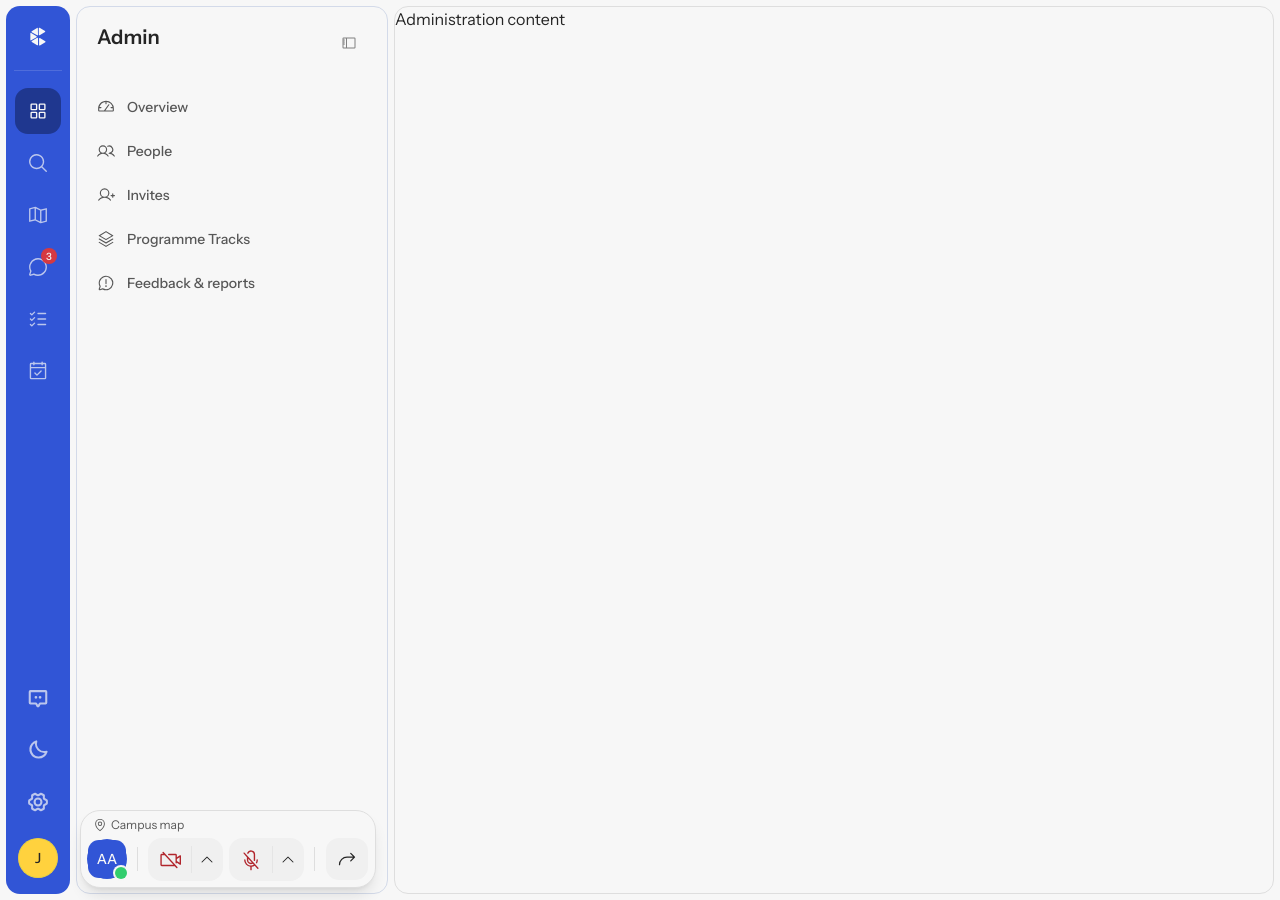
Test: administration Campus layout › Tasks restores Campus sidebar mode
Click the button named "Tasks" at (38, 319), box [14,295,62,343]
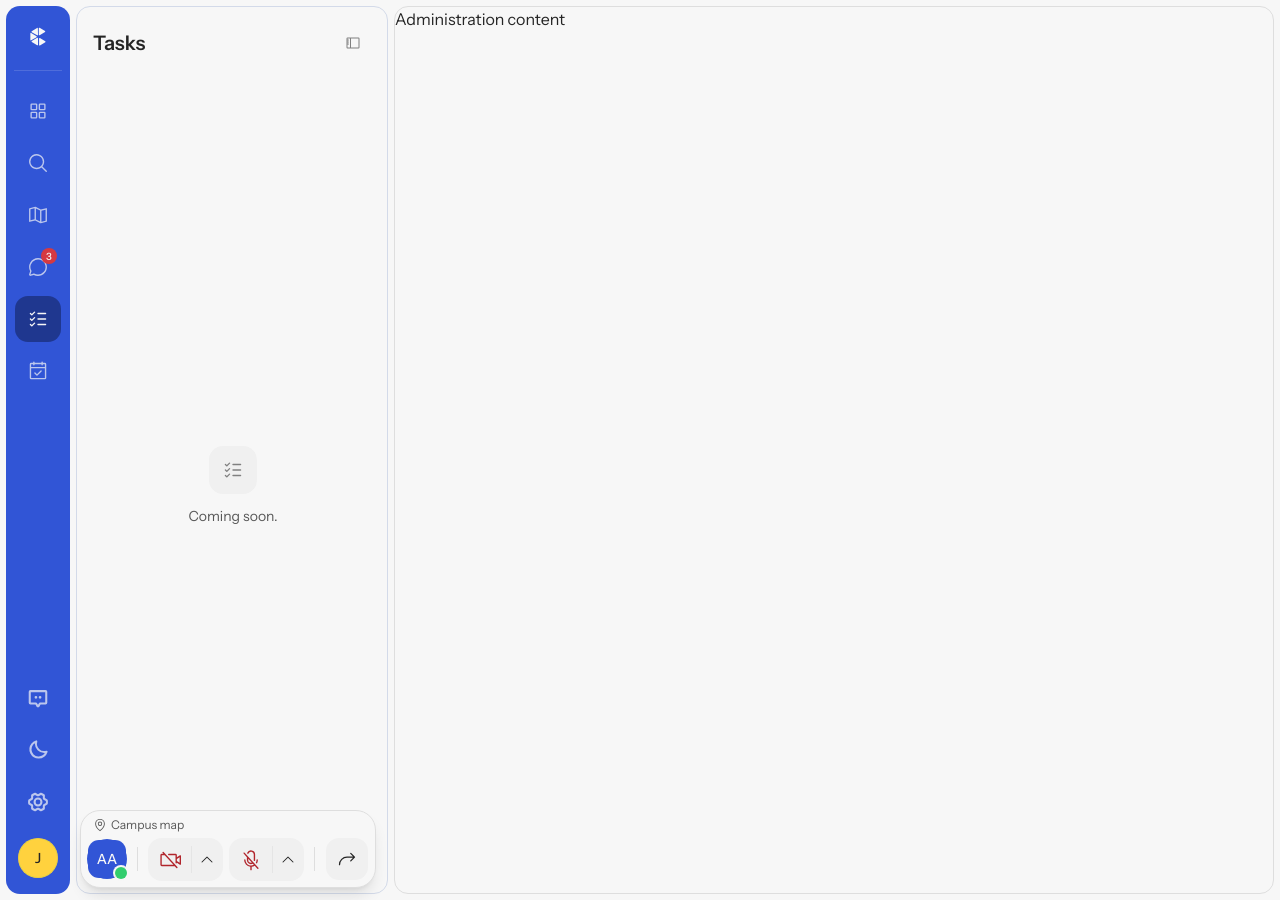
Expected: the heading "Tasks" is shown, [93,29,145,57]
